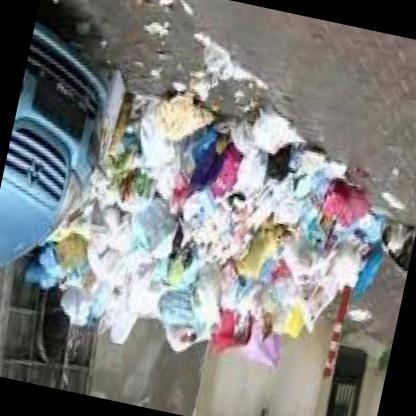Garbage: (66, 136, 266, 363), (217, 118, 372, 360), (110, 150, 172, 230), (144, 86, 208, 155), (242, 208, 292, 292), (312, 181, 382, 240), (182, 256, 238, 328), (66, 226, 128, 290), (202, 132, 250, 209), (120, 260, 176, 323), (228, 141, 283, 204), (162, 232, 198, 294)
